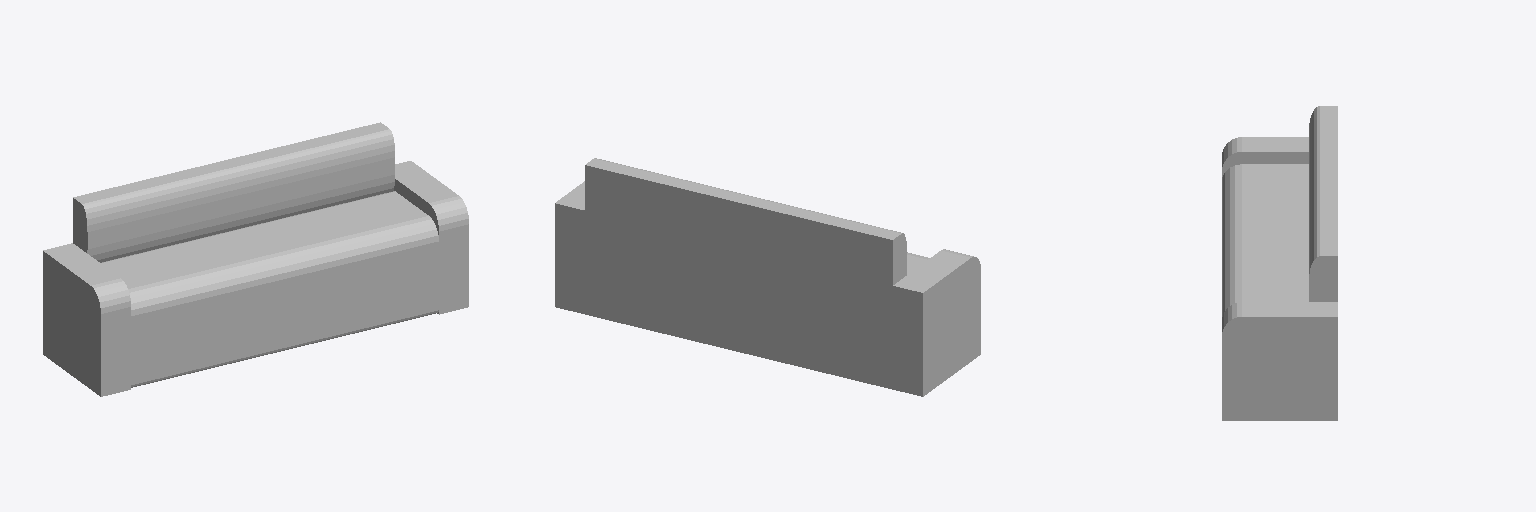
File: Couch.obj
The picture shows the model from 3 angles: view 1: azimuth 30°, elevation 25°; view 2: azimuth 150°, elevation 25°; view 3: azimuth 270°, elevation 25°; orthographic projection.
Visible parts, largest first — view 1: Cube.002_Cube.003; view 2: Cube.002_Cube.003; view 3: Cube.002_Cube.003.
Part boxes in pixels (left/top/right/bottom): Cube.002_Cube.003: left=43, top=122, right=468, bottom=396; Cube.002_Cube.003: left=555, top=158, right=980, bottom=396; Cube.002_Cube.003: left=1222, top=106, right=1337, bottom=420.
Size of the model in its own units: 8.43 by 3.27 by 2.32.